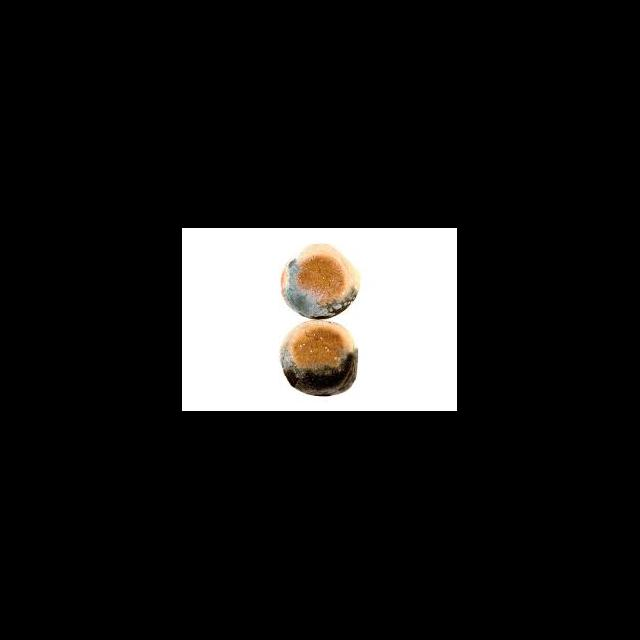food_waste: (270, 241, 369, 404)
